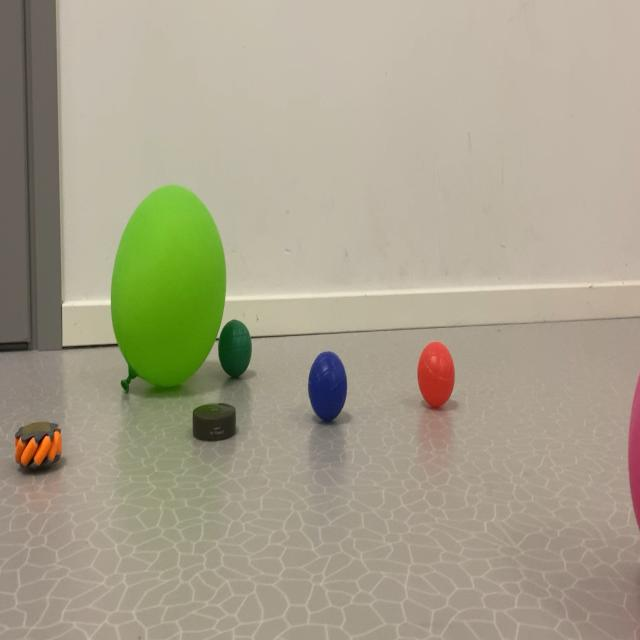7: (379, 309, 482, 481)
green ball: (282, 312, 360, 474)
red ball: (211, 303, 270, 413)
